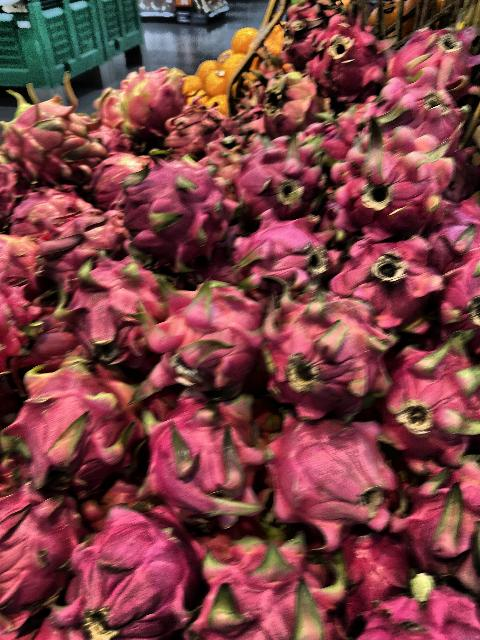buah-naga-belum-matang: (11, 359, 145, 491), (2, 84, 95, 182), (96, 59, 193, 144), (246, 67, 330, 136), (6, 189, 94, 243), (72, 148, 146, 202), (1, 230, 48, 290)
buah-naga-matang: (185, 524, 341, 640), (264, 407, 398, 541), (74, 500, 200, 640), (255, 290, 400, 404), (141, 394, 261, 518), (382, 332, 480, 470), (324, 128, 446, 235), (122, 163, 236, 263), (329, 233, 437, 333), (406, 452, 480, 594), (148, 284, 253, 384), (57, 260, 165, 356), (0, 486, 78, 618), (224, 146, 330, 220), (236, 223, 330, 301)
